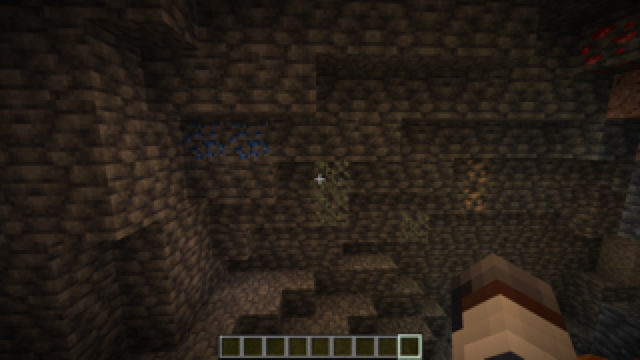iron: (462, 156, 489, 214)
lapis: (179, 118, 275, 160)
redstone: (574, 14, 640, 71)
